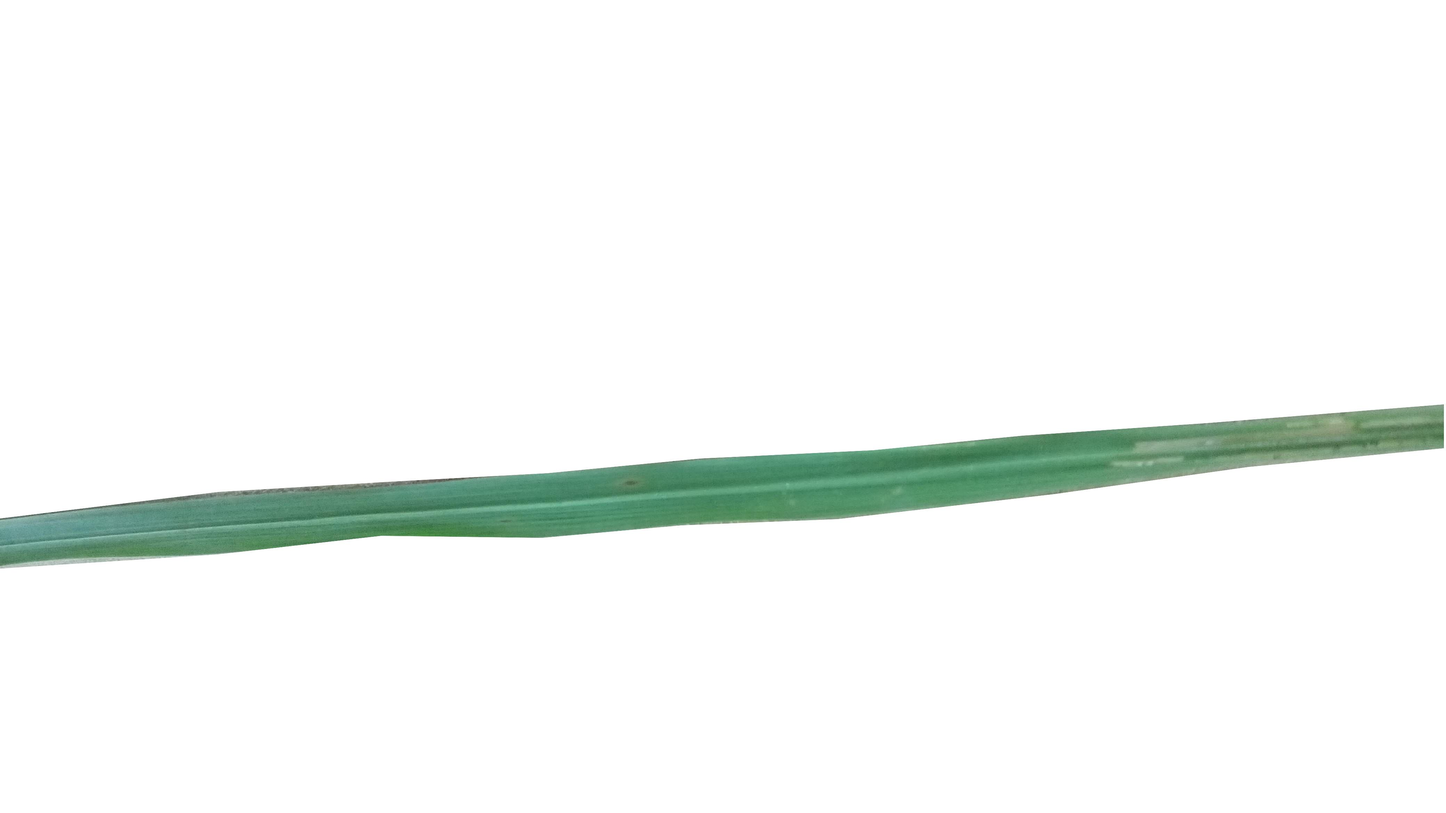Brown spot: (621, 473, 646, 496)
